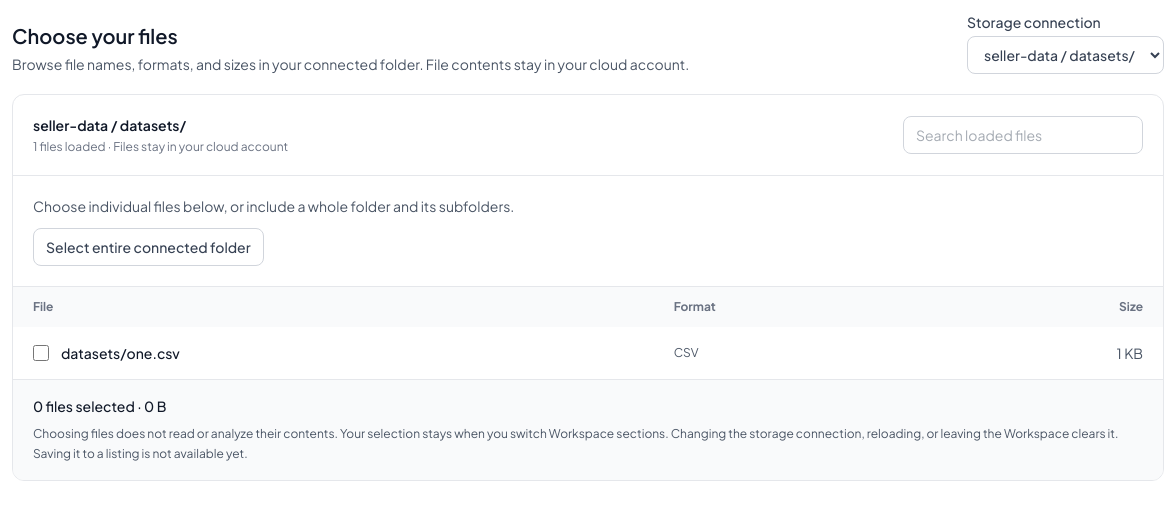
Test: Seller data browser › selects source files without starting analysis and clears selection on connection change
The image size is (1176, 516).
Click the checkbox labelled "datasets/one.csv": (41, 353) [33,345,49,361]
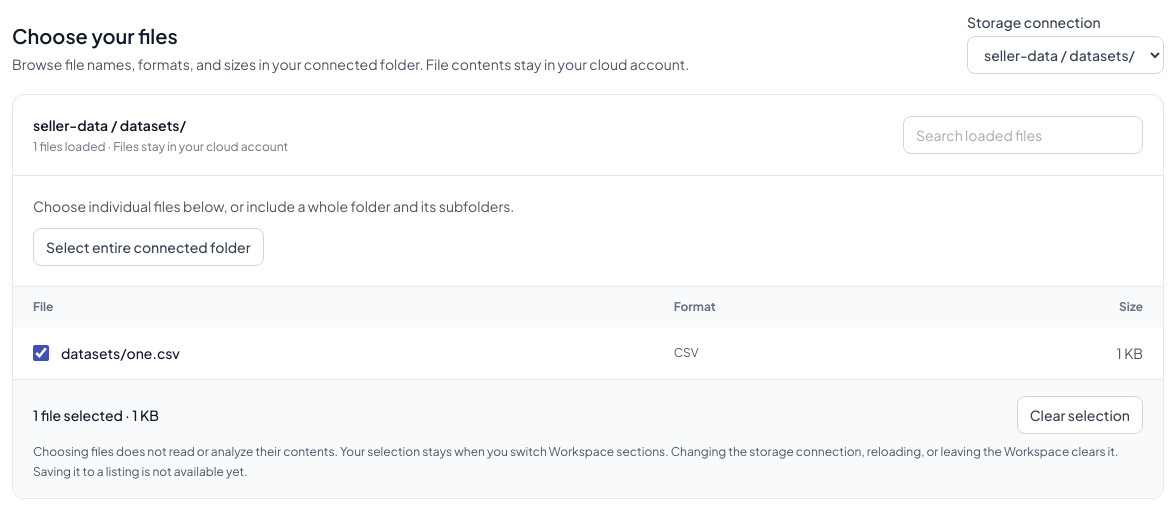
expect the text "1 file selected · 1 KB" is shown: met, box [33,405,159,425]
Select "seller-data / datasets/" in the dropdown: (1066, 55) [967,36,1164,74]
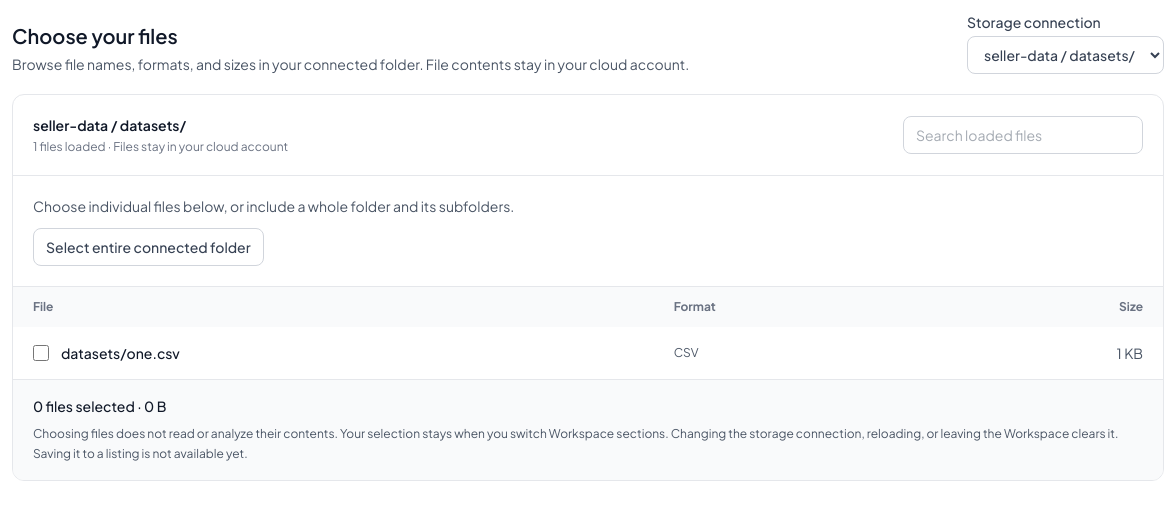
expect the text "0 files selected · 0 B" is shown: met, box [33,396,166,416]
